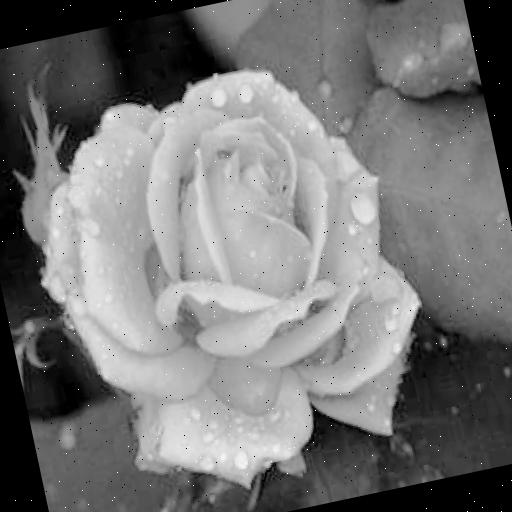rose: (7, 49, 448, 512)
